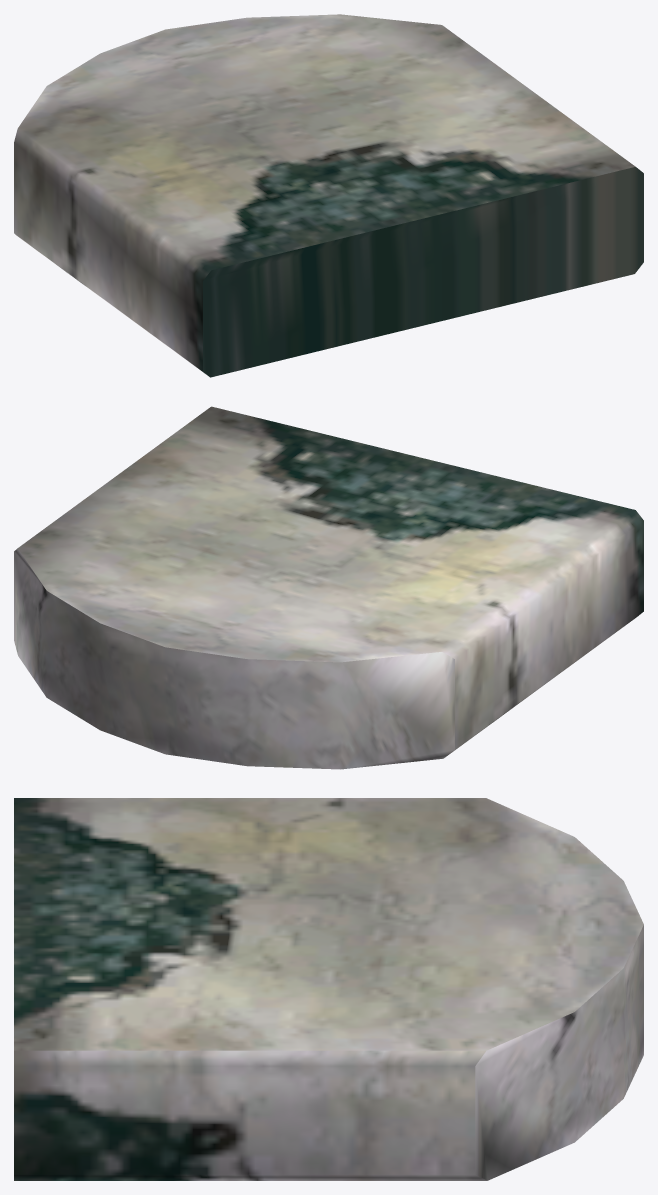
Rendered from INST_MIRK_GRAVESTONE_C.fbx.
3 renders of one model, top to bottom at view 1: azimuth 30°, elevation 25°; view 2: azimuth 150°, elevation 25°; view 3: azimuth 270°, elevation 25°, orthographic. The views are drawn at different scales.
Visible parts, largest first — view 1: INST_MIRK_GRAVESTONE_C; view 2: INST_MIRK_GRAVESTONE_C; view 3: INST_MIRK_GRAVESTONE_C.
Boxes of the visible parts, box(x1,y1,x2,y2) form: INST_MIRK_GRAVESTONE_C: box(14, 14, 643, 377); INST_MIRK_GRAVESTONE_C: box(14, 406, 643, 769); INST_MIRK_GRAVESTONE_C: box(14, 798, 643, 1180).
Size of the model in its own units: 4828 by 1120 by 4898.
1 material, 1 textured.
